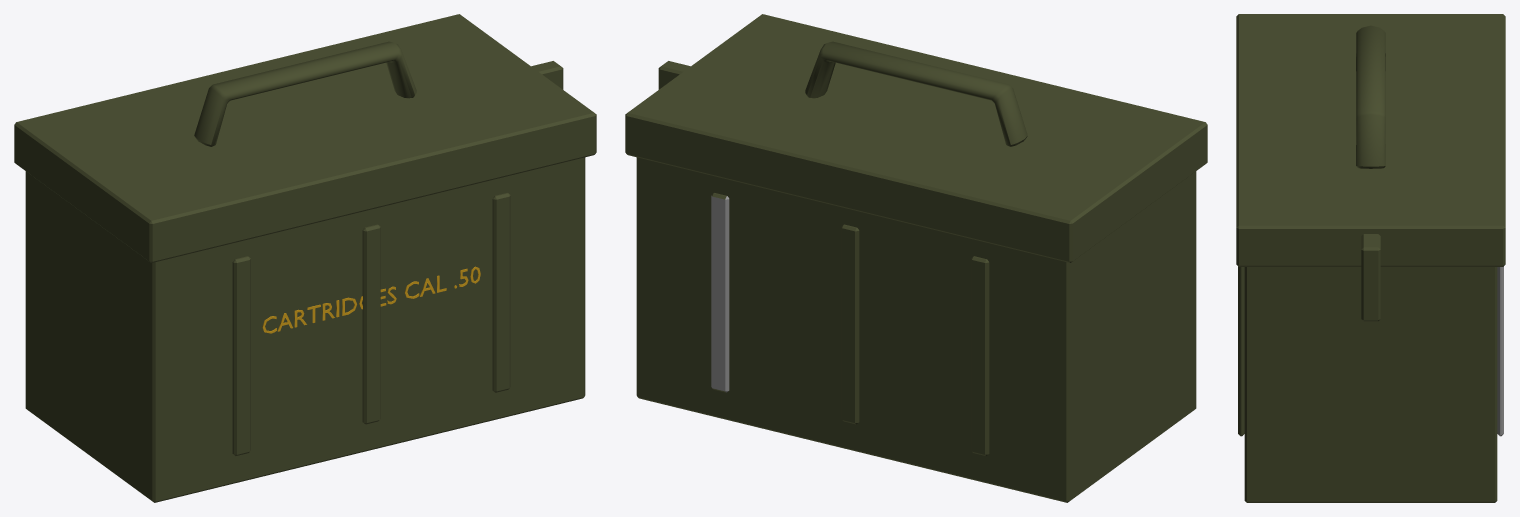
The model's file is ammo_box.glb.
3 views of the same model, side by side, from view 1: azimuth 30°, elevation 25°; view 2: azimuth 150°, elevation 25°; view 3: azimuth 270°, elevation 25° (orthographic). The views are drawn at different scales.
Parts seen in each view (by area): view 1: ammo_box, text; view 2: ammo_box; view 3: ammo_box.
Part boxes in pixels (x1,y1,x2,y2): ammo_box: (14,14,596,502); text: (262,266,480,333); ammo_box: (625,14,1207,502); ammo_box: (1236,14,1505,502).
Size of the model in its own units: 0.331 by 0.2249 by 0.165.
